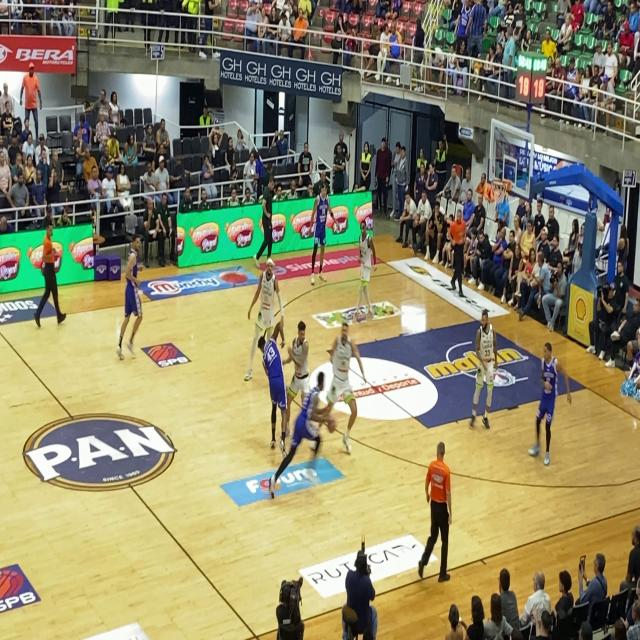Ball: (325, 413, 338, 436)
referee: (414, 424, 458, 600), (30, 222, 73, 334), (446, 203, 472, 307)
team1: (325, 316, 370, 470), (465, 301, 505, 448), (353, 215, 384, 334), (287, 307, 323, 408), (244, 255, 286, 332)
team2: (275, 363, 336, 494), (252, 322, 294, 456), (530, 326, 568, 473), (114, 227, 146, 371), (309, 181, 338, 292)
ubasket: (491, 174, 509, 206)
